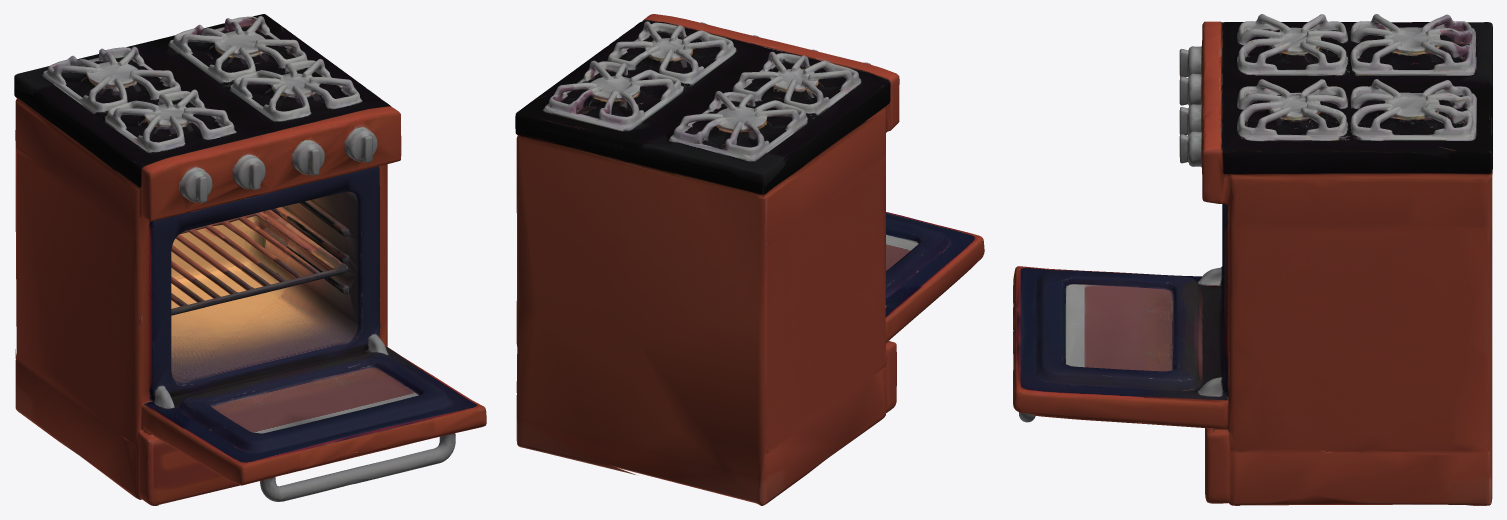
Rendered from Meshy_AI_Brown_Gas_Range_with__0609205705_texture.fbx.
3 renders of one model, left to right at view 1: azimuth 30°, elevation 25°; view 2: azimuth 150°, elevation 25°; view 3: azimuth 270°, elevation 25°, orthographic. The views are drawn at different scales.
Parts seen in each view (by area): view 1: Mesh_0; view 2: Mesh_0; view 3: Mesh_0.
Boxes of the visible parts, <box> form: Mesh_0: <box>14,14,486,505</box>; Mesh_0: <box>515,14,984,505</box>; Mesh_0: <box>1013,14,1492,505</box>.
Bounding box in the file's own units: 123 × 166 × 191.
1 material, 1 textured.
